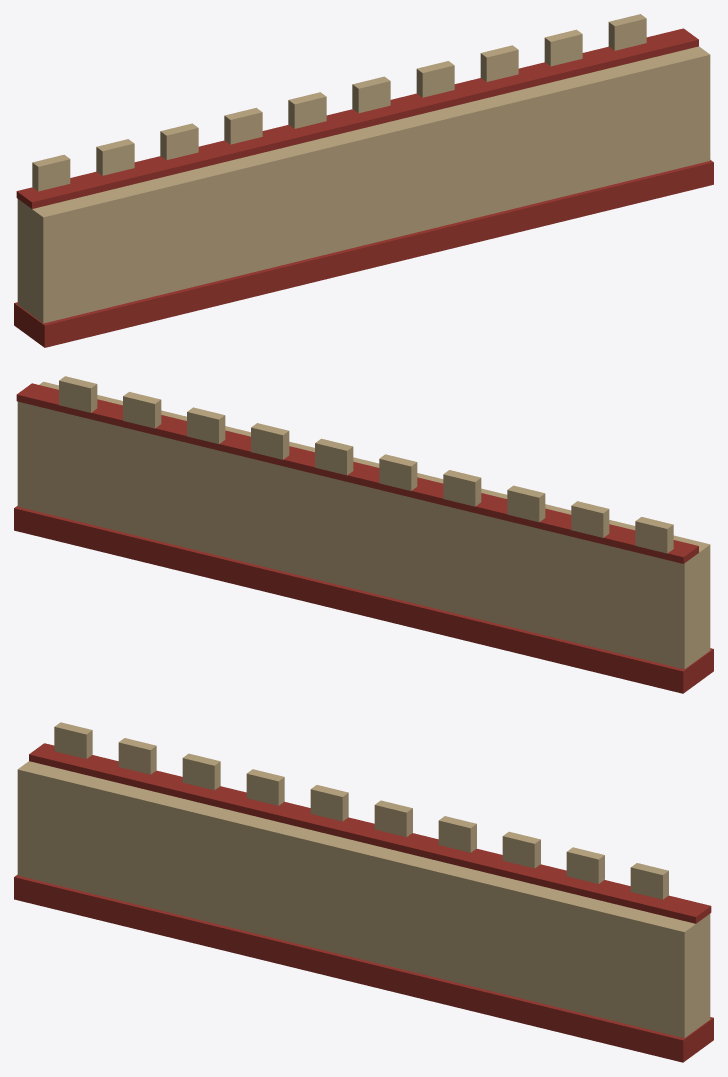
File: minotaur_wall_broken.glb
The picture shows the model from 3 angles, top to bottom: view 1: azimuth 30°, elevation 25°; view 2: azimuth 150°, elevation 25°; view 3: azimuth 330°, elevation 25°; orthographic projection.
Visible parts, largest first — view 1: minotaur_wall_piece5, minotaur_wall_piece3, minotaur_wall_piece1, minotaur_wall_piece8, minotaur_wall_piece0, minotaur_wall_piece7, minotaur_wall_piece10, minotaur_wall_piece6, minotaur_wall_piece2, minotaur_wall_piece12, minotaur_wall_piece9, minotaur_wall_piece4 (+2 smaller); view 2: minotaur_wall_piece3, minotaur_wall_piece4, minotaur_wall_piece5, minotaur_wall_piece2, minotaur_wall_piece9, minotaur_wall_piece1, minotaur_wall_piece11, minotaur_wall_piece0, minotaur_wall_piece6, minotaur_wall_piece13, minotaur_wall_piece12, minotaur_wall_piece7 (+1 smaller); view 3: minotaur_wall_piece5, minotaur_wall_piece3, minotaur_wall_piece1, minotaur_wall_piece8, minotaur_wall_piece0, minotaur_wall_piece7, minotaur_wall_piece6, minotaur_wall_piece10, minotaur_wall_piece2, minotaur_wall_piece12, minotaur_wall_piece9, minotaur_wall_piece4 (+2 smaller).
Part boxes in pixels (<box>): minotaur_wall_piece5: <box>580,14,713,211</box>; minotaur_wall_piece3: <box>14,140,166,347</box>; minotaur_wall_piece1: <box>286,61,454,211</box>; minotaur_wall_piece8: <box>148,162,296,304</box>; minotaur_wall_piece0: <box>442,129,583,249</box>; minotaur_wall_piece7: <box>89,212,222,336</box>; minotaur_wall_piece10: <box>389,67,545,194</box>; minotaur_wall_piece6: <box>185,123,335,286</box>; minotaur_wall_piece2: <box>212,107,373,263</box>; minotaur_wall_piece12: <box>322,167,456,280</box>; minotaur_wall_piece9: <box>447,34,581,154</box>; minotaur_wall_piece4: <box>555,29,601,216</box>; minotaur_wall_piece3: <box>551,501,713,693</box>; minotaur_wall_piece4: <box>75,391,211,578</box>; minotaur_wall_piece5: <box>14,376,172,545</box>; minotaur_wall_piece2: <box>344,470,488,633</box>; minotaur_wall_piece9: <box>142,395,257,574</box>; minotaur_wall_piece1: <box>253,423,443,534</box>; minotaur_wall_piece11: <box>477,488,576,655</box>; minotaur_wall_piece0: <box>210,486,287,594</box>; minotaur_wall_piece6: <box>437,485,525,643</box>; minotaur_wall_piece13: <box>278,506,356,613</box>; minotaur_wall_piece12: <box>303,513,420,629</box>; minotaur_wall_piece7: <box>527,562,601,673</box>; minotaur_wall_piece5: <box>554,863,713,1062</box>; minotaur_wall_piece3: <box>14,722,176,909</box>; minotaur_wall_piece1: <box>265,785,474,925</box>; minotaur_wall_piece8: <box>122,784,265,960</box>; minotaur_wall_piece0: <box>416,920,552,1030</box>; minotaur_wall_piece7: <box>58,815,192,942</box>; minotaur_wall_piece6: <box>191,759,304,966</box>; minotaur_wall_piece10: <box>363,827,520,926</box>; minotaur_wall_piece2: <box>239,769,347,956</box>; minotaur_wall_piece12: <box>291,915,430,989</box>; minotaur_wall_piece9: <box>473,823,585,956</box>; minotaur_wall_piece4: <box>529,850,623,1035</box>.
Size of the model in its own units: 6.27 by 1.43 by 0.5.
